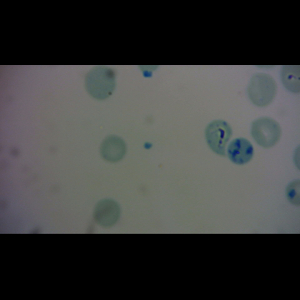aggregate reticulocyte: (227, 137, 255, 165)
erythrocyte: (84, 66, 116, 101), (205, 119, 233, 157), (93, 198, 122, 228), (100, 136, 127, 163)
punctate reticulocyte: (248, 73, 277, 107), (251, 117, 281, 148)
